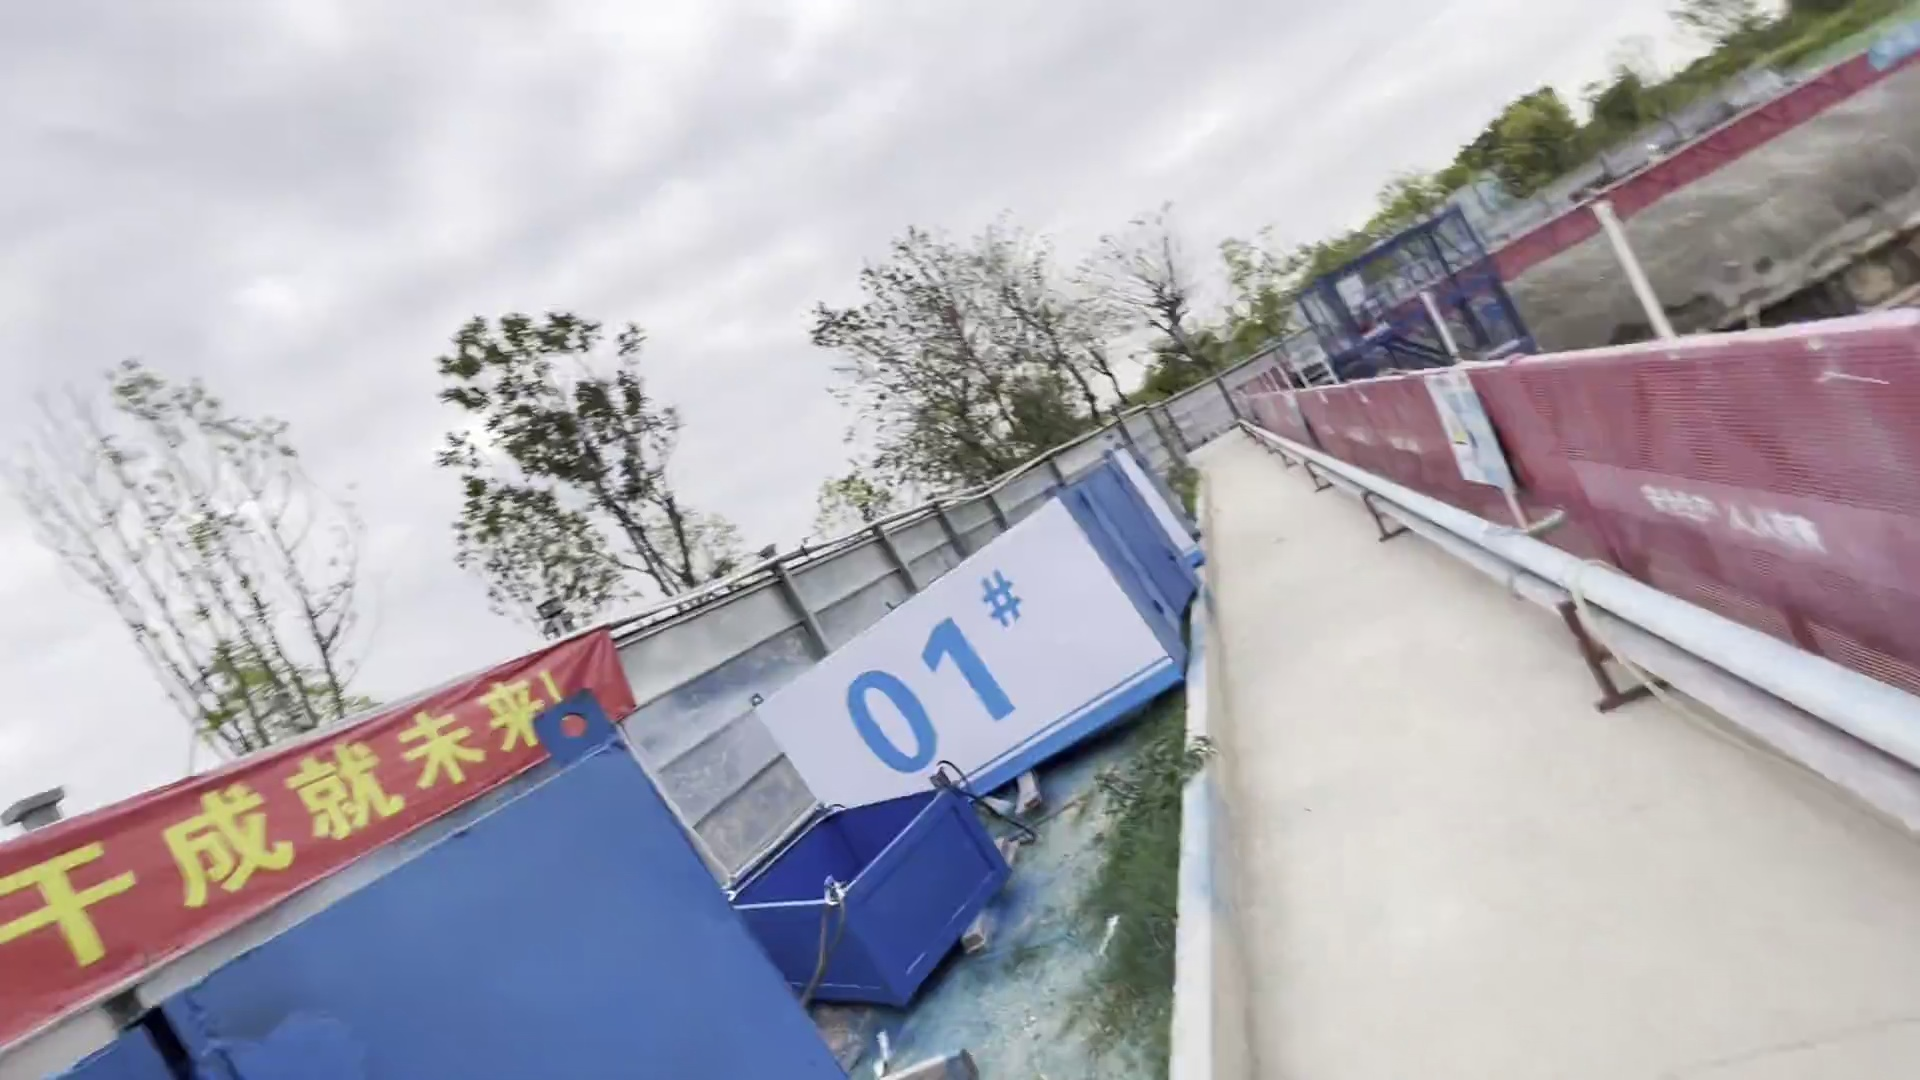fence: (1270, 342, 1909, 650)
slogan: (20, 636, 655, 858)
